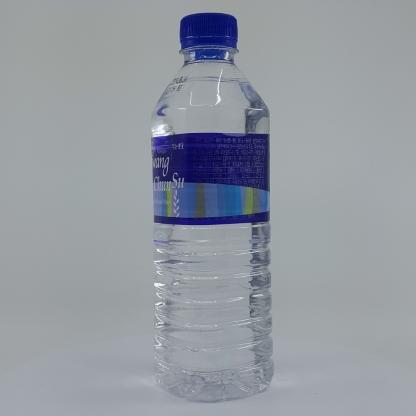----------500ML: (151, 12, 274, 403)
